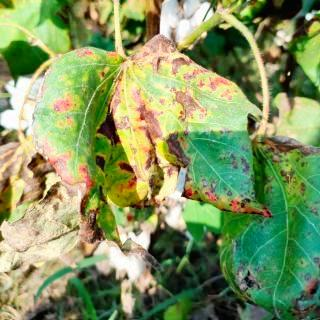blight: (116, 28, 275, 222), (24, 30, 118, 200)
